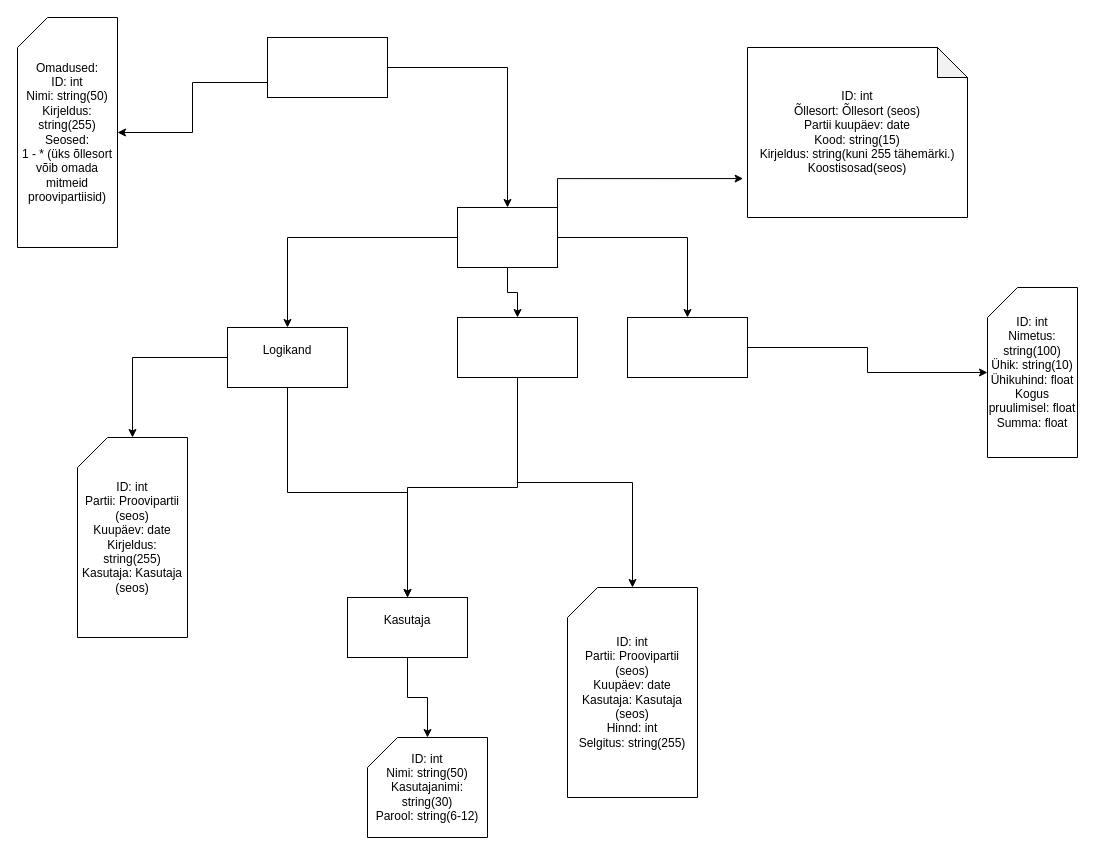
Image size: 1095x855. Some labels were removed from this diagram. Each missing label, with the centre of its shape:
Koostisosa: the point at 687,347
Maitsmiiste Logi: the point at 517,347
Proovipartii: the point at 507,237
Õllesort: the point at 327,67
